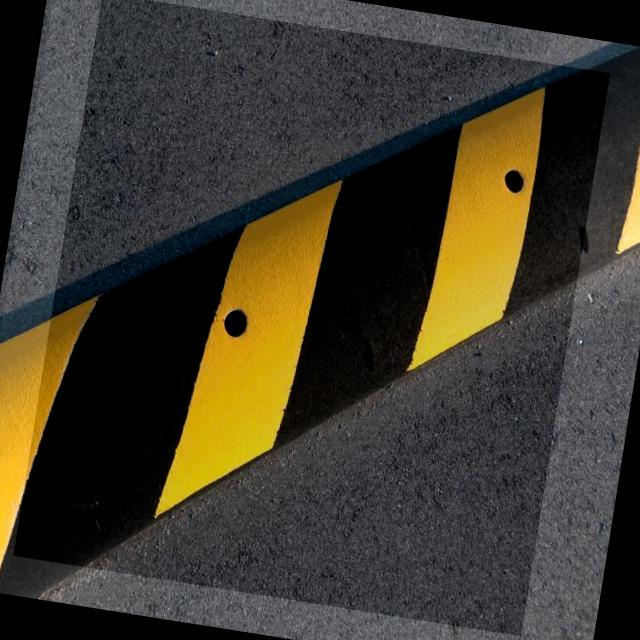bump: (13, 0, 610, 636)
